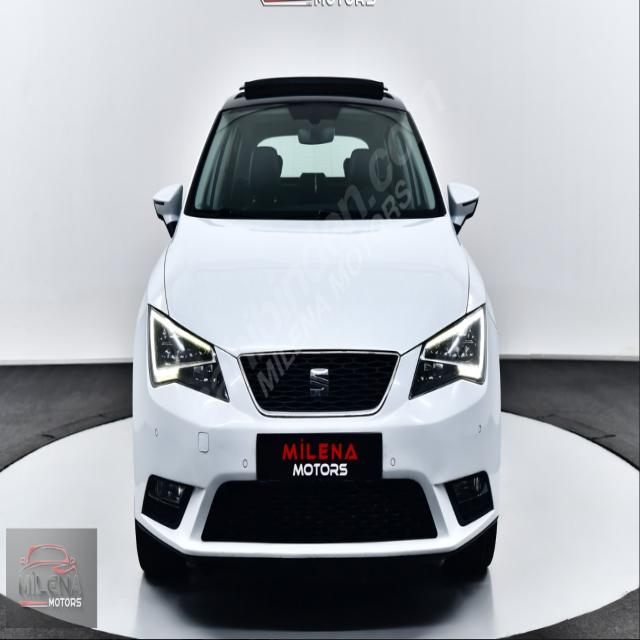seat: (307, 364, 333, 403)
